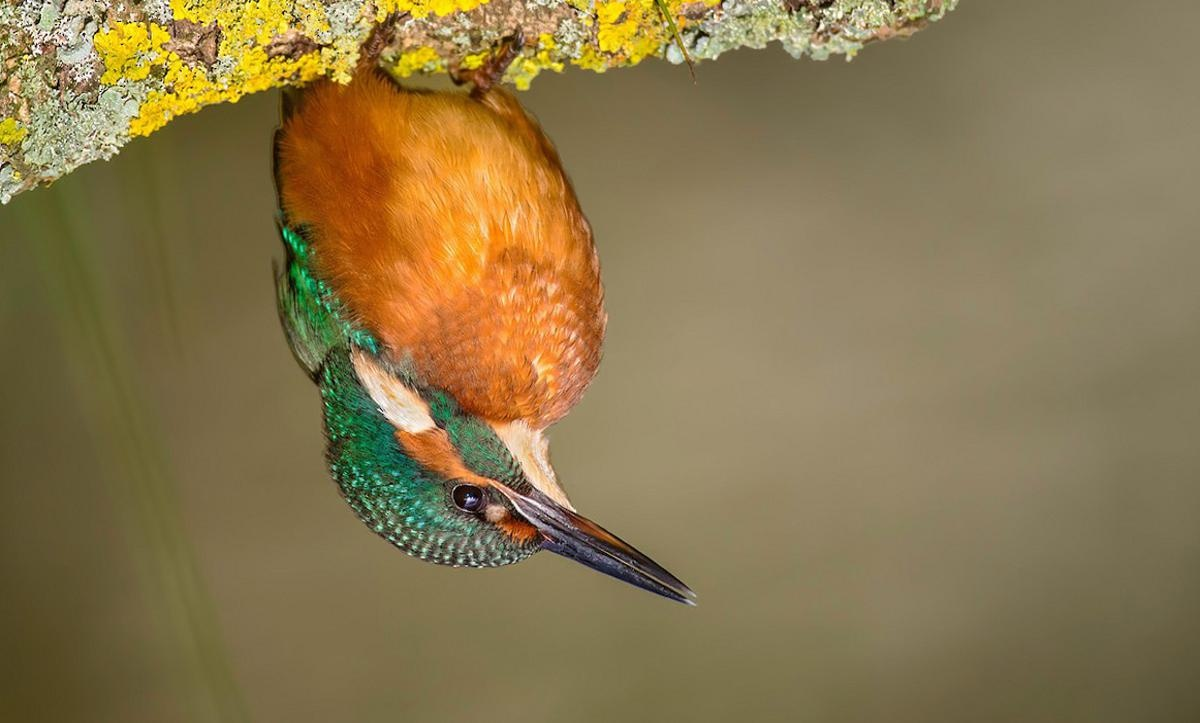kingfisher: (279, 56, 719, 615)
